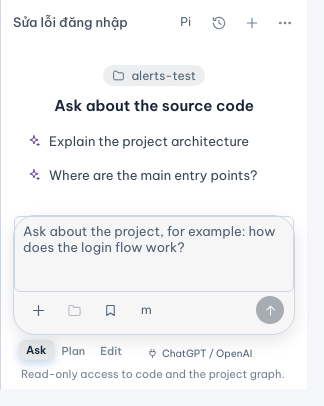
Test: lỗi provider trong chat › MIN-46 M1/M6 EN: mã conflict không có trong chat.errors vẫn dịch qua errorText
In the text box: (154,254) left=14, top=216, right=294, bottom=292, type "hỏi gì đó"
Then press Enter
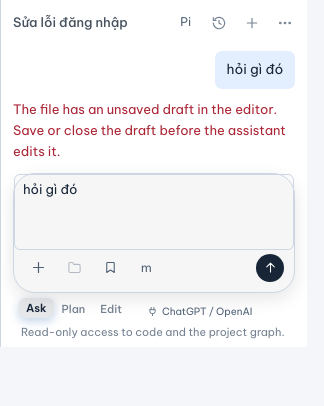
Expected: the button named "Send" is shown, left=256, top=254, right=284, bottom=282
Expected: the text "The file has an unsaved draft in the editor. Save or close the draft before the assistant edits it." is shown, left=13, top=101, right=286, bottom=160
